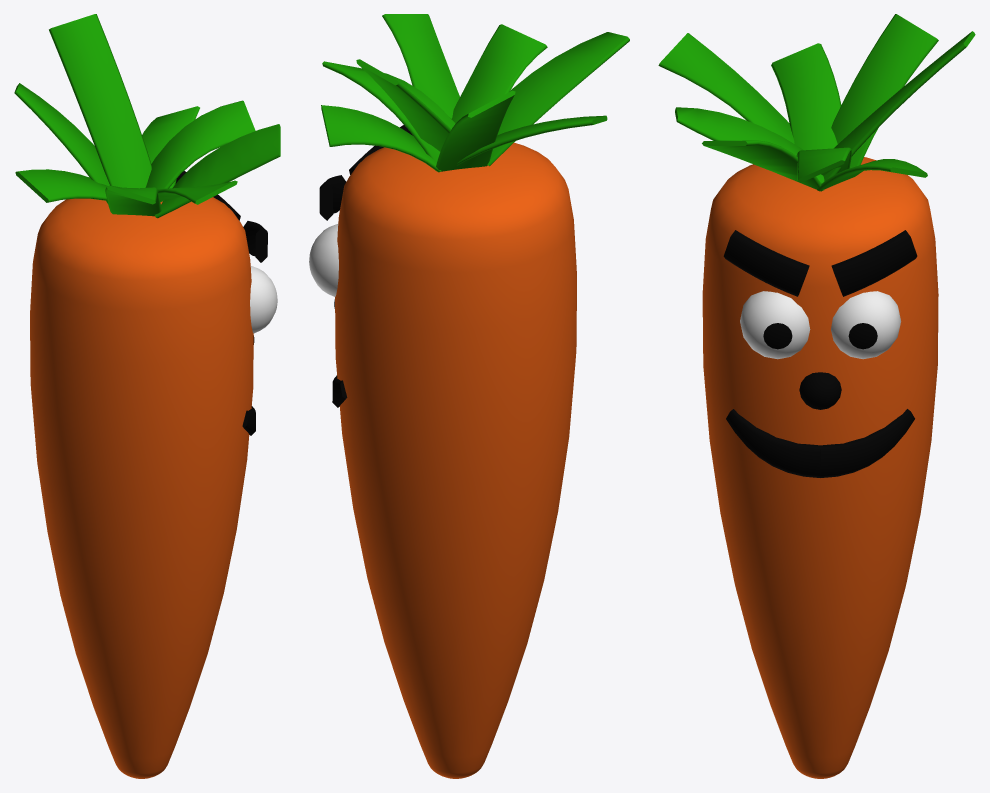
The model's file is SM_Carrot.fbx.
3 renders of one model, left to right at view 1: azimuth 30°, elevation 25°; view 2: azimuth 150°, elevation 25°; view 3: azimuth 270°, elevation 25°, orthographic. The views are drawn at different scales.
Parts seen in each view (by area): view 1: Carrot_Body, Carrot_Top, Carrot_Eyes, Carrot_Eyebrows; view 2: Carrot_Body, Carrot_Top, Carrot_Eyes, Carrot_Eyebrows; view 3: Carrot_Body, Carrot_Top, Carrot_Eyes, Carrot_Eyebrows, Carrot_Mouth, Carrot_Nose.
Boxes of the visible parts, <box> form: Carrot_Body: <box>30,197,253,778</box>; Carrot_Top: <box>14,14,280,218</box>; Carrot_Eyes: <box>250,266,277,333</box>; Carrot_Eyebrows: <box>175,171,267,262</box>; Carrot_Body: <box>335,142,576,778</box>; Carrot_Top: <box>321,14,629,172</box>; Carrot_Eyes: <box>309,224,338,296</box>; Carrot_Eyebrows: <box>319,125,412,220</box>; Carrot_Body: <box>702,157,938,778</box>; Carrot_Top: <box>658,14,975,191</box>; Carrot_Eyes: <box>740,291,901,359</box>; Carrot_Eyebrows: <box>723,230,917,296</box>; Carrot_Mouth: <box>726,409,914,477</box>; Carrot_Nose: <box>799,372,841,409</box>.
Bounding box in the file's own units: 256 × 233 × 660.
